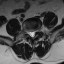CCS_normal: (31, 29, 32, 39)
LFS_stenosis: (35, 26, 37, 33)
LLS_normal: (32, 29, 35, 38)
RFS_normal: (26, 28, 29, 37)
RLS_normal: (29, 29, 31, 38)
